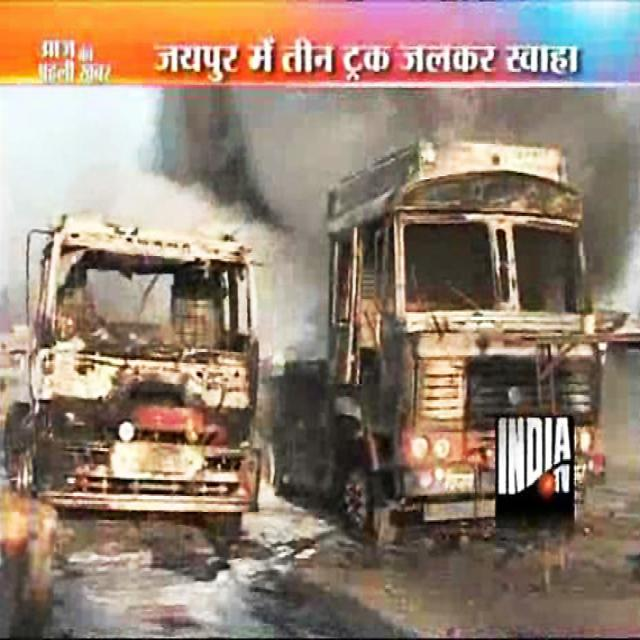accident: (270, 144, 626, 539), (29, 219, 259, 512)
